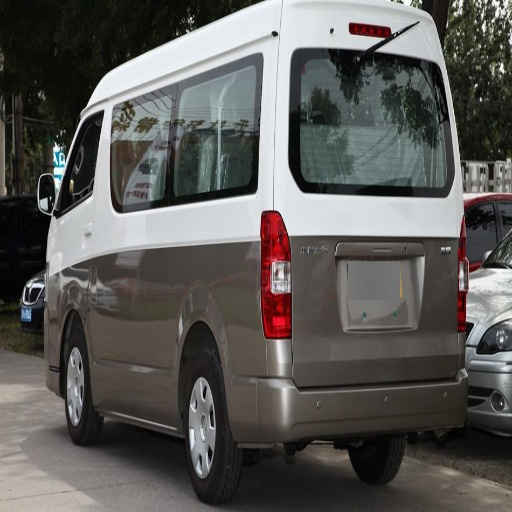back_bumper: (231, 333, 506, 445)
back_left_light: (260, 216, 287, 337)
trunk: (62, 197, 464, 395)
